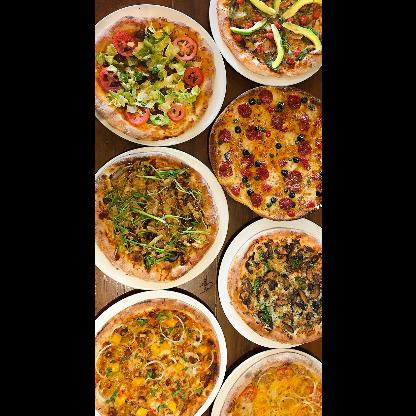pizza: (96, 152, 218, 284), (96, 15, 216, 142), (209, 88, 322, 220), (95, 298, 221, 415), (228, 228, 322, 346), (218, 2, 322, 76), (219, 352, 322, 415)
